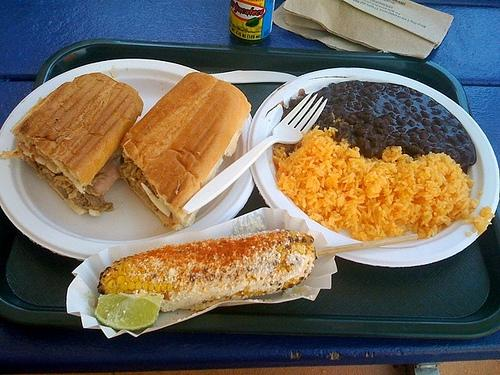corn: (98, 229, 418, 312)
lime: (94, 292, 164, 334)
